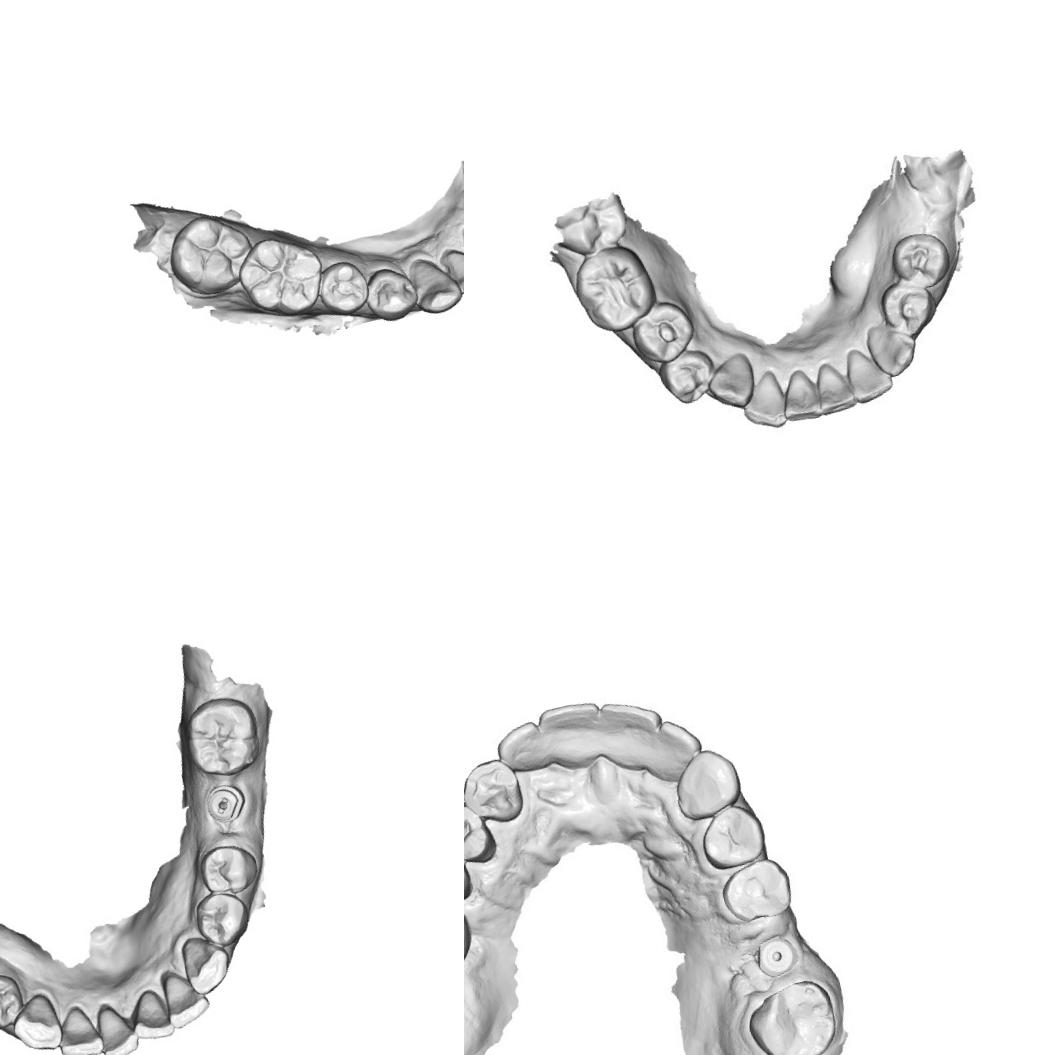canine: (668, 739, 752, 822), (464, 755, 527, 832), (699, 344, 763, 418), (175, 928, 238, 999), (405, 249, 464, 320), (4, 990, 64, 1055), (866, 320, 920, 382)
implant: (748, 930, 802, 983)
implant_minus: (201, 778, 250, 829)
incisor: (594, 693, 669, 771), (538, 697, 612, 775), (158, 962, 214, 1032), (124, 985, 177, 1048), (738, 369, 790, 432), (846, 345, 896, 405), (50, 1000, 104, 1055), (90, 998, 142, 1055), (648, 718, 700, 775), (776, 364, 825, 423), (811, 360, 856, 420), (495, 723, 543, 770), (436, 236, 464, 303)
molar: (160, 204, 264, 304), (230, 225, 332, 325), (177, 688, 268, 785), (569, 243, 659, 336), (743, 977, 839, 1055)
premolar: (187, 884, 257, 954), (721, 855, 795, 921), (873, 272, 943, 340), (887, 222, 956, 290), (194, 836, 264, 902), (358, 259, 424, 328), (312, 255, 376, 322), (696, 806, 760, 868), (636, 304, 693, 360), (660, 350, 714, 406), (0, 968, 31, 1034), (464, 803, 494, 867)
